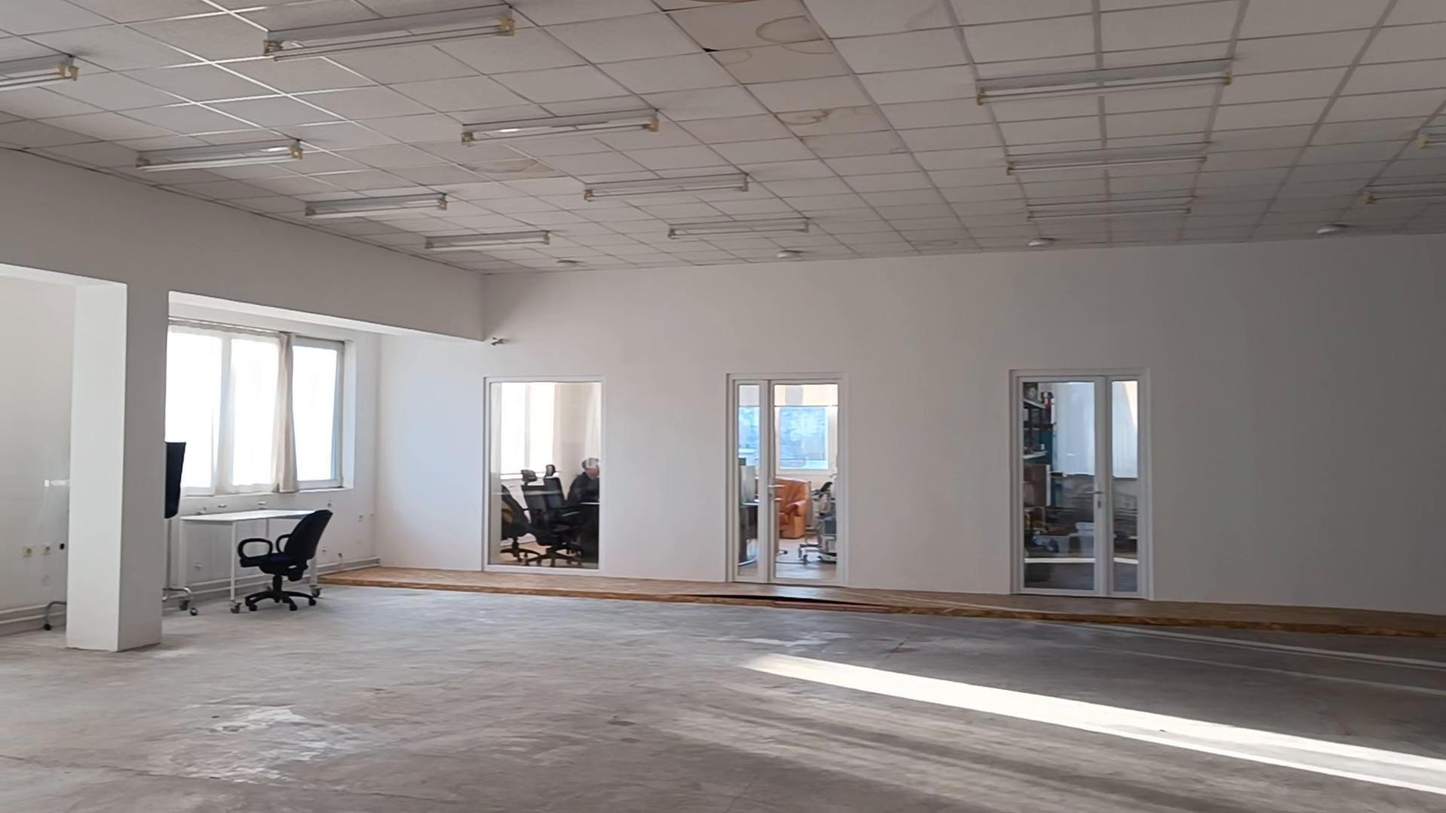ceiling: (0, 0, 1445, 271)
floor: (0, 586, 1445, 812), (324, 565, 1443, 647)
wall: (377, 237, 1442, 608), (0, 154, 481, 652), (8, 287, 79, 630)
